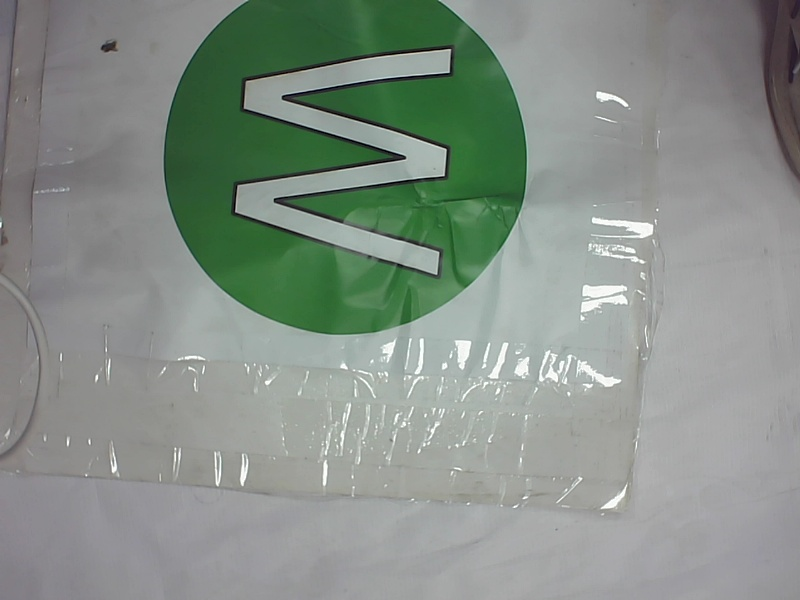areaB: (143, 1, 541, 349)
